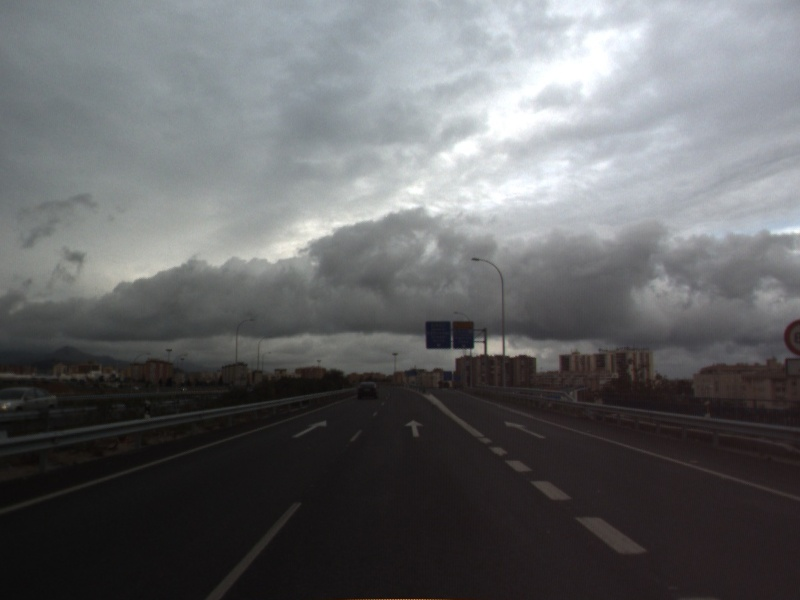STRAIGHT: (502, 419, 548, 441), (290, 418, 328, 440), (402, 417, 426, 439)
